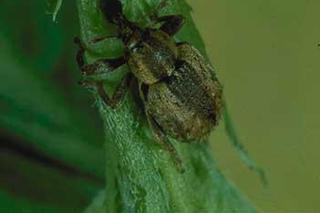weevils: (62, 0, 264, 167)
